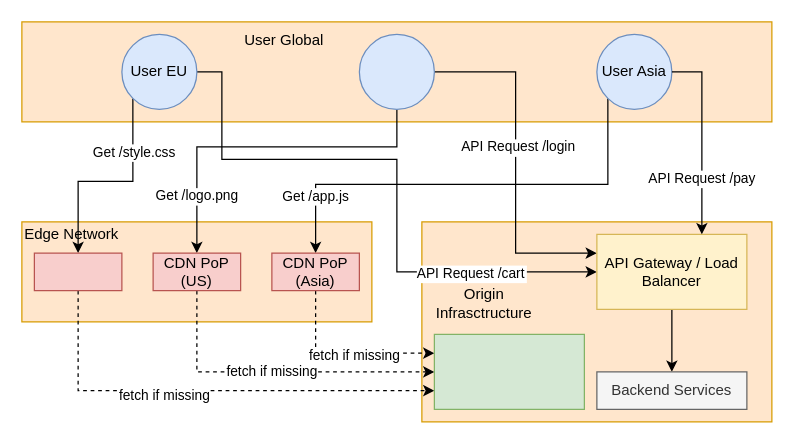
Image size: 794x444. Some labels were removed from this diagram. The centre of each missing label's shape, as x and y in pixels:
"CDN PoP (Eu)" goes at point (77, 271).
"Object Storage (S3)" goes at point (508, 371).
"User US" goes at point (396, 71).
